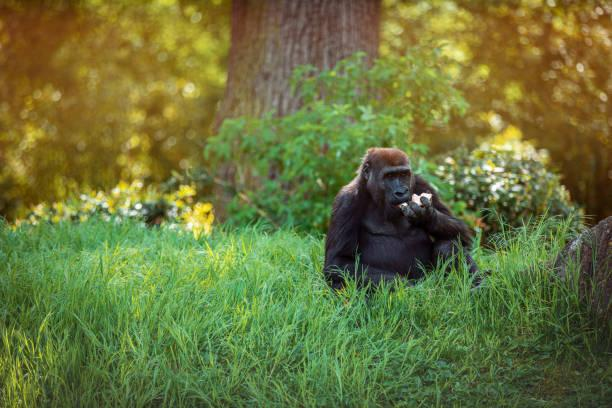gorille_Autres: (320, 130, 487, 304)
